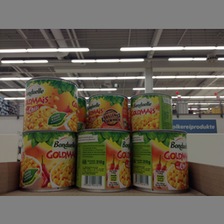corn: (132, 129, 190, 195), (76, 129, 132, 191), (20, 131, 76, 193), (23, 78, 77, 129), (129, 93, 173, 130), (88, 94, 128, 129)
